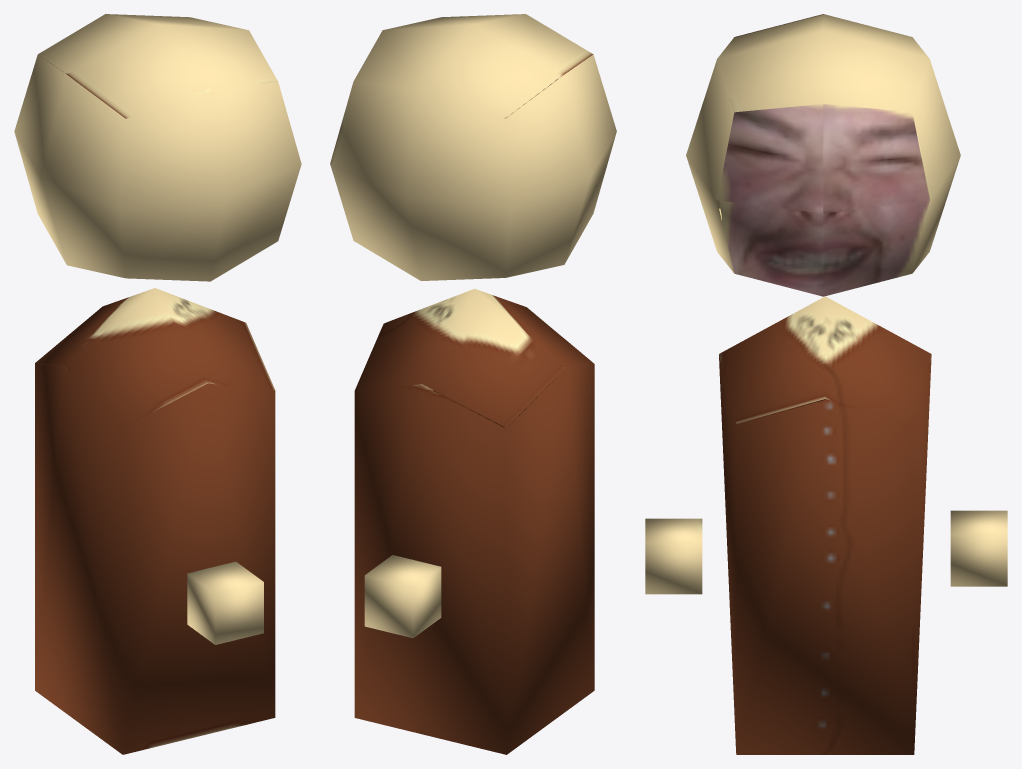
Rendered from ManModel.fbx.
3 views of the same model, side by side, from view 1: azimuth 30°, elevation 25°; view 2: azimuth 150°, elevation 25°; view 3: azimuth 270°, elevation 25° (orthographic).
Visible parts, largest first — view 1: Cube; view 2: Cube; view 3: Cube.
Part boxes in pixels (left/top/right/bottom): Cube: left=14, top=14, right=301, bottom=754; Cube: left=330, top=14, right=616, bottom=754; Cube: left=645, top=14, right=1007, bottom=754.
Size of the model in its own units: 0.2614 by 0.7213 by 0.3448.
1 material, 1 textured.
